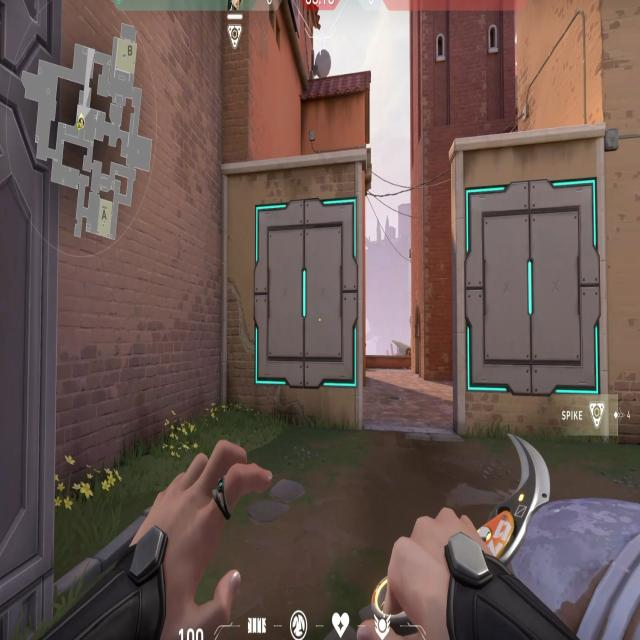Mid_Wall: (455, 165, 616, 434), (246, 155, 367, 433)
